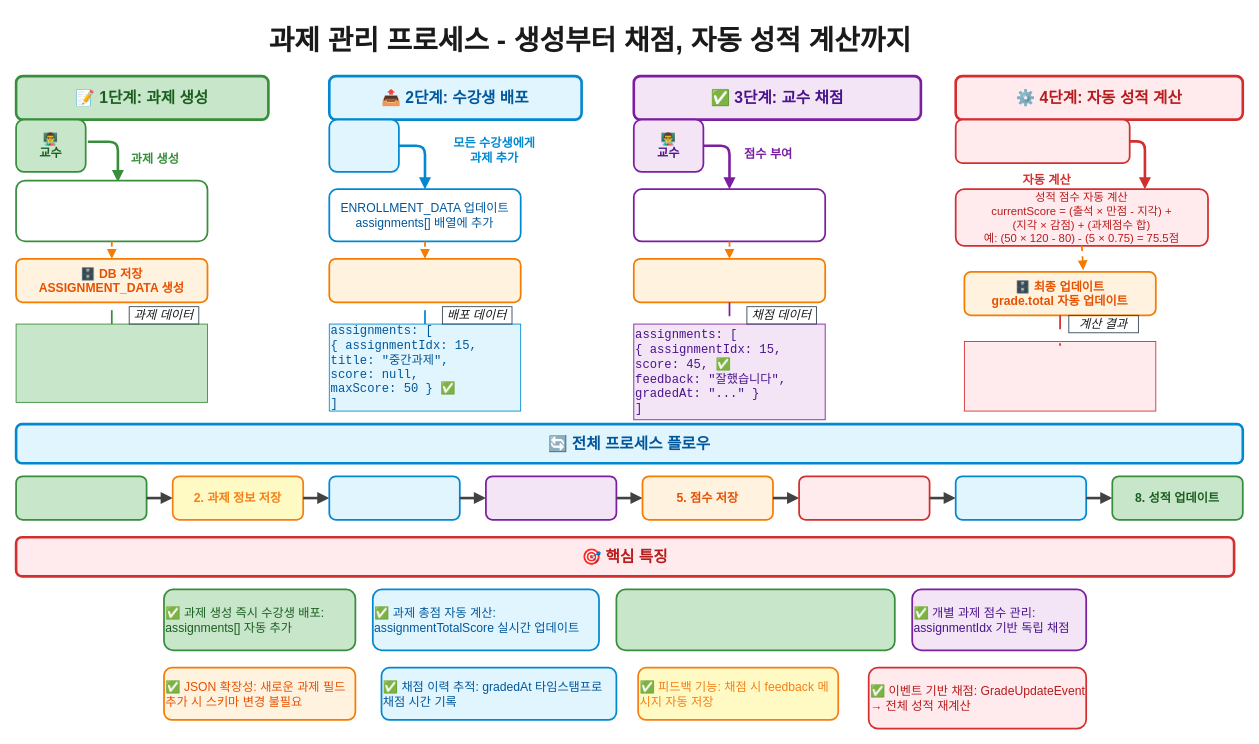
The diagram is 1259 pixels wide and 744 high, and some of its shapes have lost their labels. The box of each missing label's shape, as (x1, y1, x2, y2) in pixels:
1. 교수 과제 생성: (15, 475, 147, 520)
3. 수강생에 배포: (328, 475, 460, 520)
4. 교수 채점: (485, 475, 617, 520)
6. Event 발행: (798, 475, 930, 520)
7. 자동 계산: (954, 475, 1087, 520)
assignment: { title: "중간과제", maxScore: 50, status: "ACTIVE" }: (15, 323, 207, 402)
attendanceScore: 75.5, ✅ currentScore: 120.5, ✅ percentage: 43.5 ✅: (964, 341, 1156, 411)
POST /api/assignments { lecSerial, title, description, maxScore, dueDate }: (15, 179, 208, 242)
PUT /api/assignments/{idx}/grade { studentIdx, score, feedback }: (632, 188, 826, 242)
✅ 실시간 성적 반영: 채점 즉시 grade.total.currentScore 자동 업데이트: (615, 588, 895, 651)
🔄 자동 배포: (328, 118, 399, 172)
🔔 GradeUpdateEvent 발행: (954, 118, 1130, 164)
🗄️ DB 업데이트 assignments[].score 업데이트: (632, 258, 826, 303)
🗄️ DB 업데이트 assignmentTotalScore 자동 합산: (328, 258, 521, 303)
